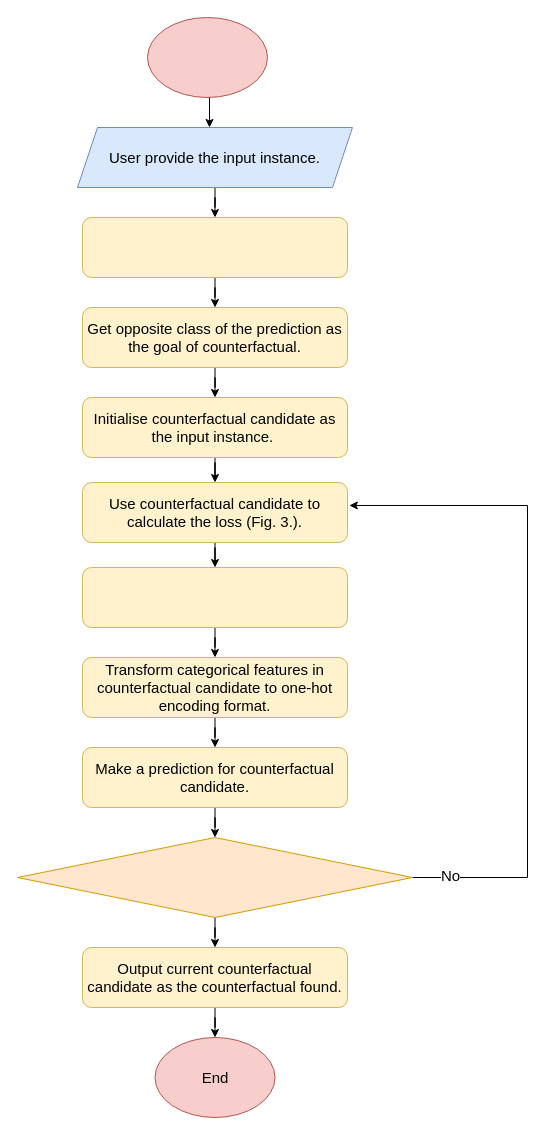
Some shapes in this 553 by 1135 pixel diagram are drawn without their labels. Here are the shapes that lost their labels. From the top down, the box of each, then its label:
(146, 16, 268, 98): Start
(82, 216, 348, 278): Predict the output of the input instance.
(82, 566, 348, 628): Using loss and gradient decent to update counterfactual candidate.
(16, 836, 412, 918): Prediction of counterfactual candidate opposite to prediction of input instance.
